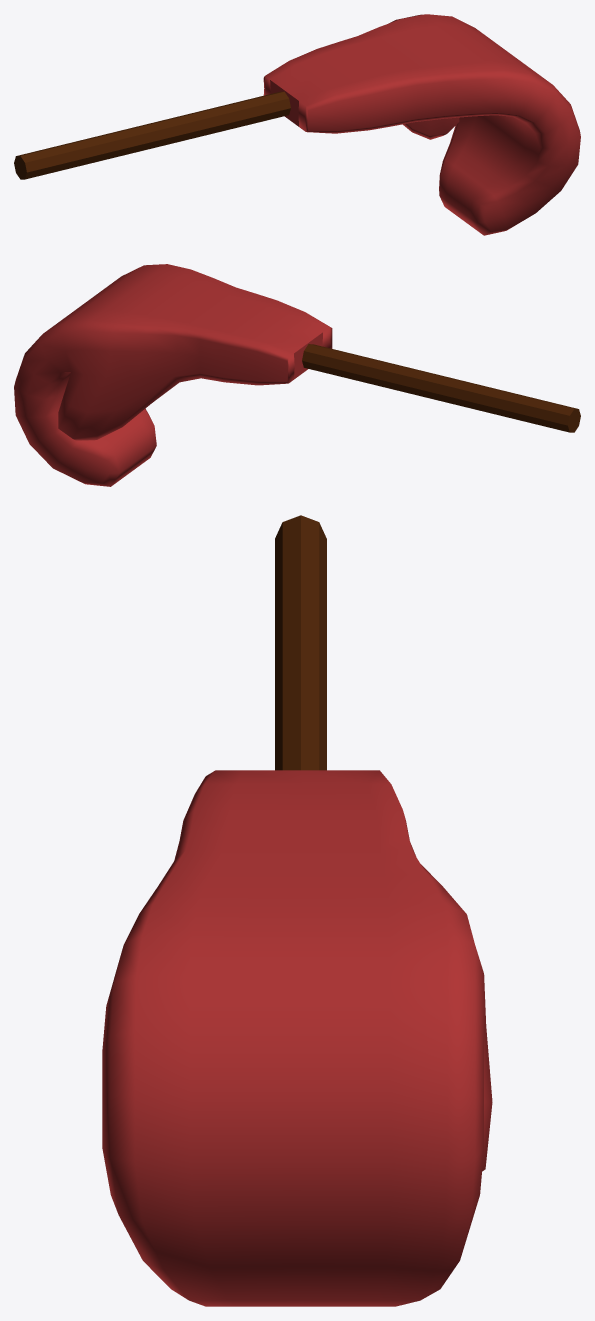
The model's file is BoxEldiveni.fbx.
3 views of the same model, one above another, from view 1: azimuth 30°, elevation 25°; view 2: azimuth 150°, elevation 25°; view 3: azimuth 270°, elevation 25° (orthographic). The views are drawn at different scales.
Parts seen in each view (by area): view 1: pCube1; view 2: pCube1; view 3: pCube1.
Part boxes in pixels (left/top/right/bottom): pCube1: left=14, top=14, right=580, bottom=235; pCube1: left=14, top=264, right=580, bottom=486; pCube1: left=102, top=515, right=492, bottom=1306.
Bounding box in the file's own units: 3.37 × 1.14 × 1.1.
